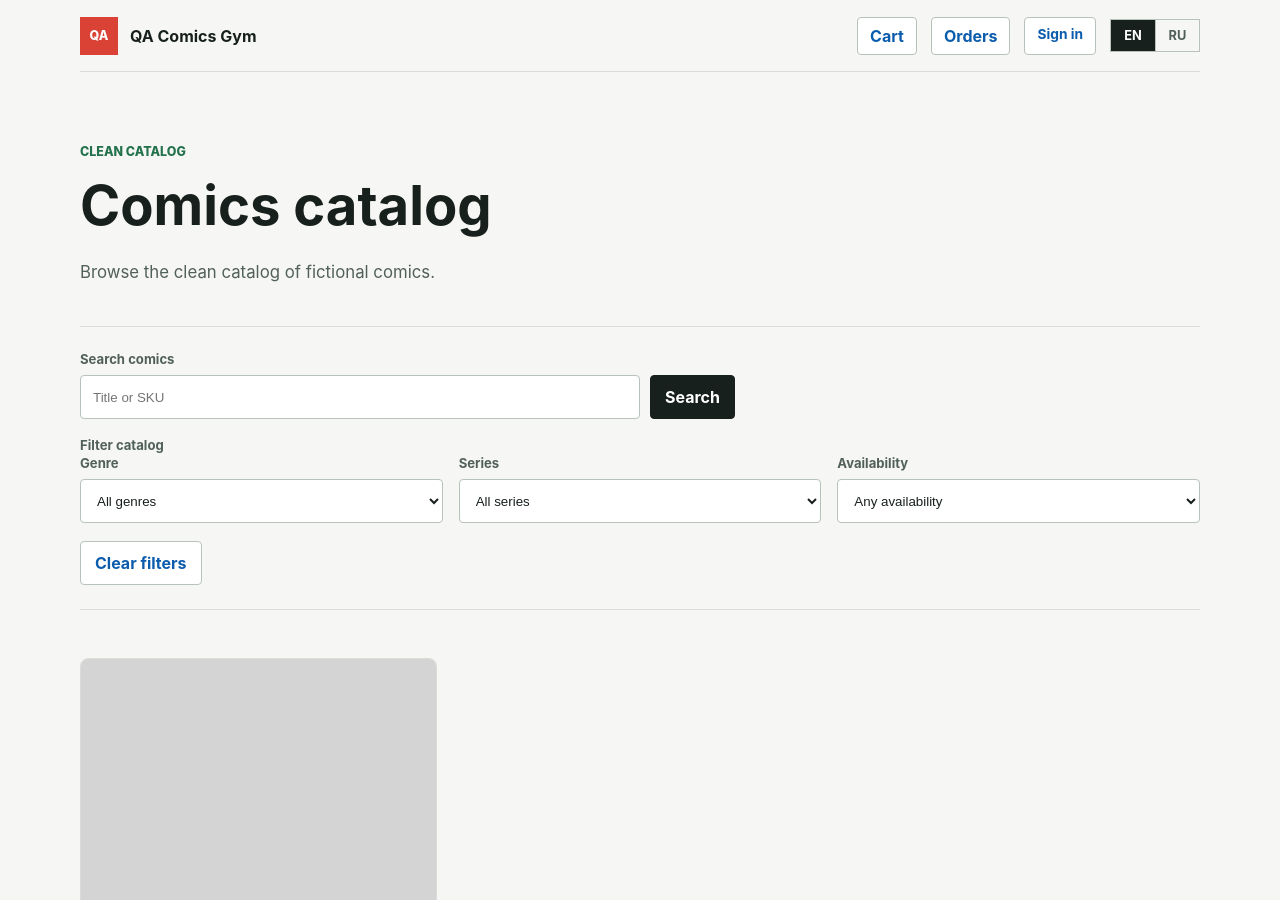
Test: application routing › preserves the route while switching locale
The image size is (1280, 900).
Step 1. Click the link "RU" → (1177, 36), box [1155, 20, 1199, 51]
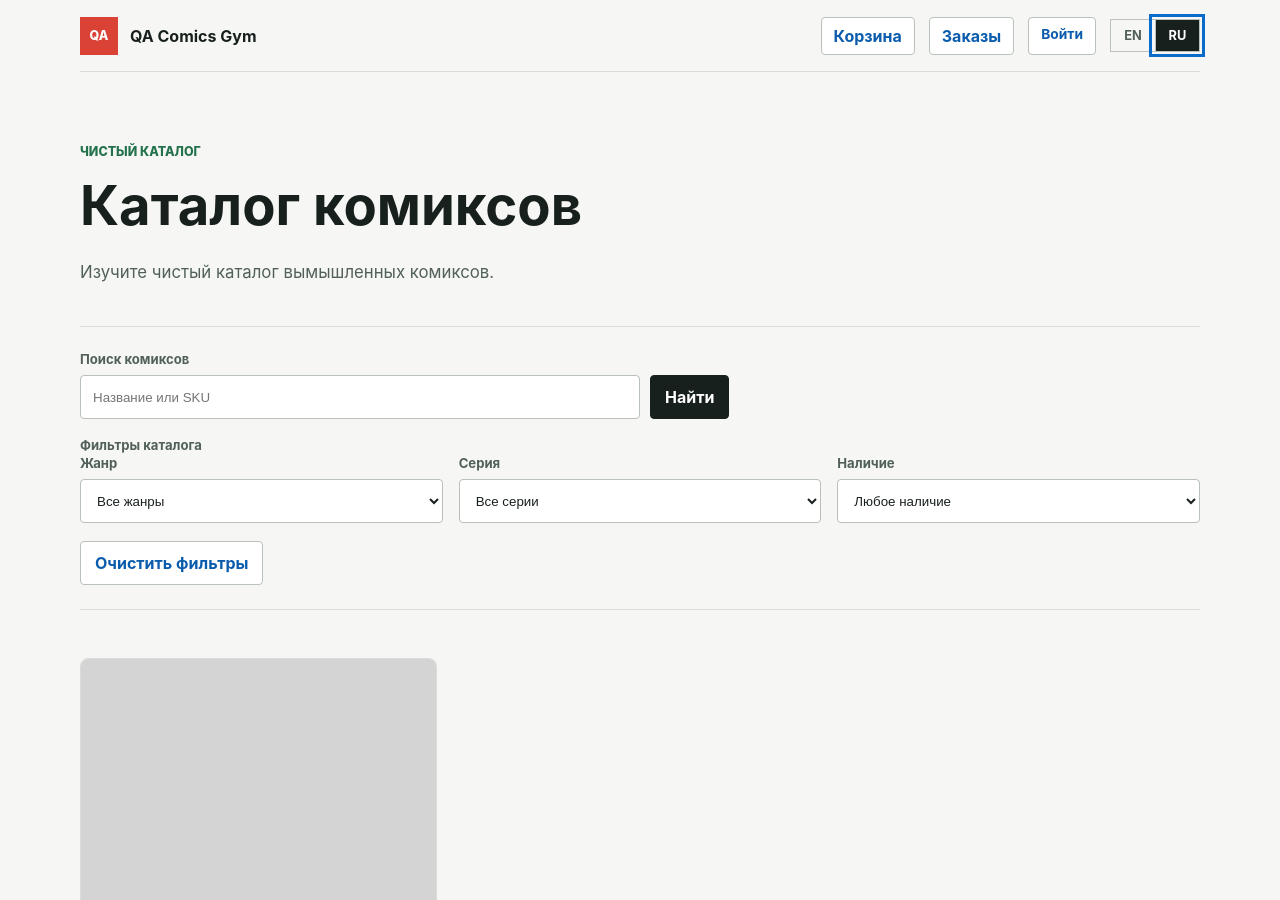
expect the heading "Каталог комиксов" is shown: met, box [80, 172, 582, 238]
